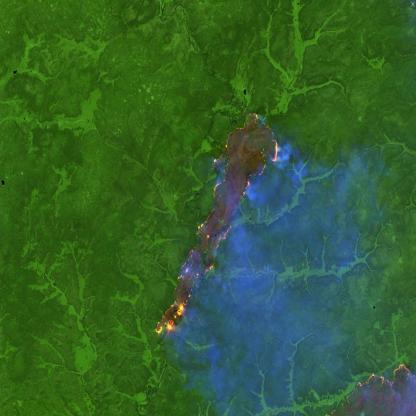fire: (150, 105, 286, 339), (329, 360, 416, 416)
